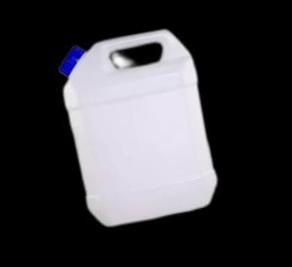Plastik: (59, 29, 216, 226)
